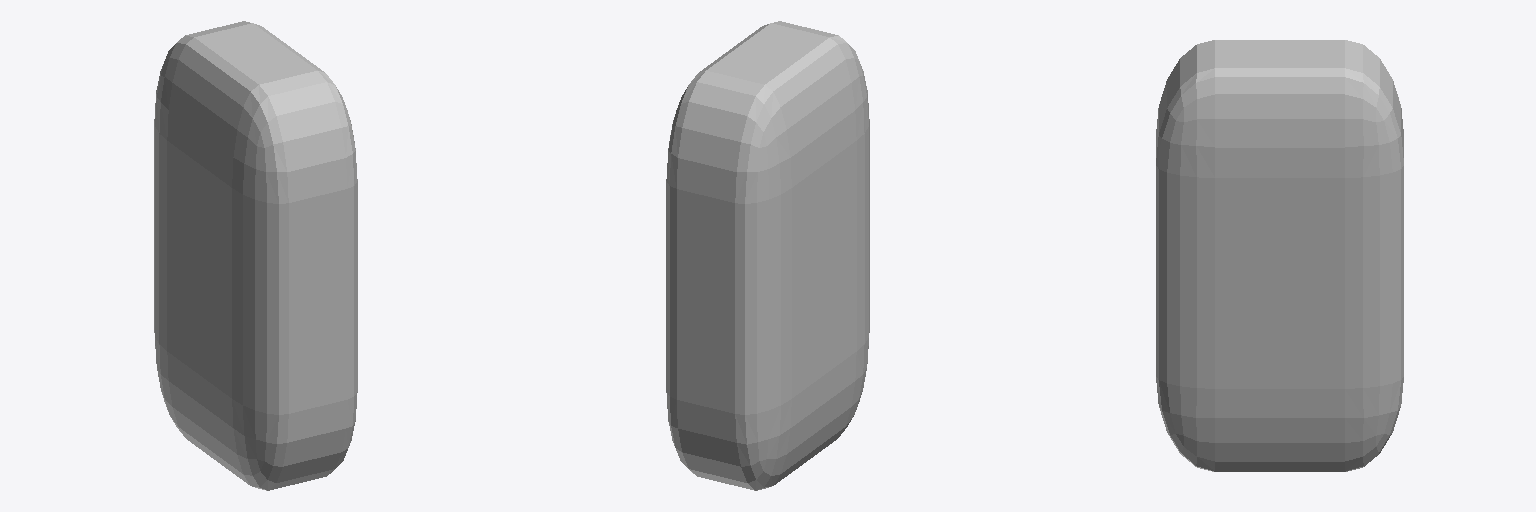
File: balloon_balloon_sandbag.obj
3 views of the same model, side by side, from view 1: azimuth 30°, elevation 25°; view 2: azimuth 150°, elevation 25°; view 3: azimuth 270°, elevation 25° (orthographic).
Parts seen in each view (by area): view 1: Cube_Cube.002; view 2: Cube_Cube.002; view 3: Cube_Cube.002.
Part boxes in pixels (bbox=[...]): Cube_Cube.002: bbox=[154, 21, 357, 490]; Cube_Cube.002: bbox=[666, 21, 869, 490]; Cube_Cube.002: bbox=[1156, 40, 1403, 471].
Bounding box in the file's own units: 0.2158 × 0.7403 × 0.4124.